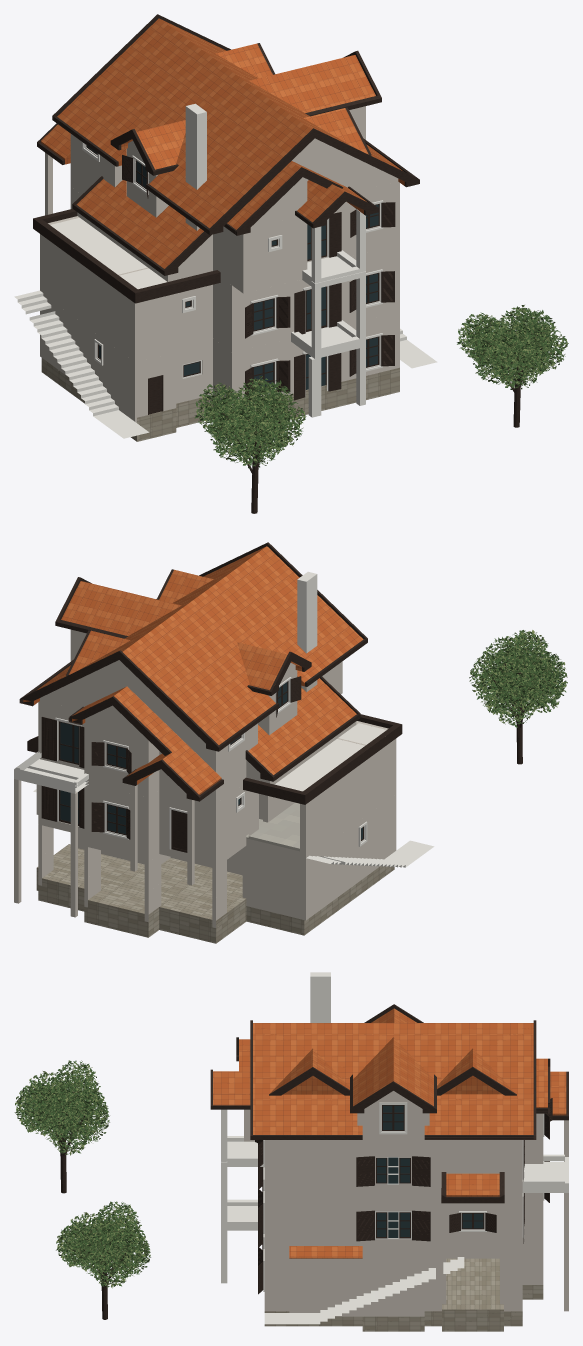
The model's file is context-detail-b29.glb.
3 views of the same model, one above another, from view 1: azimuth 30°, elevation 25°; view 2: azimuth 150°, elevation 25°; view 3: azimuth 270°, elevation 25° (orthographic). The views are drawn at different scales.
Parts seen in each view (by area): view 1: B29 | ÇATII.003, B29 | KAT 1$DUVAR, B29 | KAT 2$DUVAR, B29 | KAT 0$DUVAR, B29 | ek dalgalar, Individual folded leaves.016, B29 | ÇATI ALIN.002, Individual folded leaves.015, B29 | ÇATII.002, B29 | KAT 3$DUVAR, B29 foundation below BK, B29 | ÇATI ALIN.001 (+14 smaller); view 2: B29 | ÇATII.003, B29 | KAT 1$DUVAR, B29 | KAT 0$DUVAR, B29 foundation below BK, B29 | KAT 2$DUVAR, Individual folded leaves.016, B29 | ÇATII.002, B29 | ÇATI ALIN.002, B29 | KAT 3$DUVAR, B29 | ÇATI ALIN.001, B29 | ÇATI ALIN, B29 | KAT 1$TAVAN (+13 smaller); view 3: B29 | ÇATII.003, B29 | KAT 1$DUVAR, B29 | KAT 0$DUVAR, B29 | KAT 2$DUVAR, B29 foundation below BK, Individual folded leaves.016, Individual folded leaves.015, B29 | ÇATI ALIN.002, B29 | ek dalgalar, B29 | ek dalgalar.001, B29 | PENCERE_KAPI$SHUTTER.001, B29 | KAT 3$DUVAR (+12 smaller).
Part boxes in pixels (bbox=[...]): B29 | ÇATII.003: bbox=[57, 18, 402, 229]; B29 | KAT 1$DUVAR: bbox=[40, 152, 399, 362]; B29 | KAT 2$DUVAR: bbox=[70, 134, 399, 293]; B29 | KAT 0$DUVAR: bbox=[40, 295, 399, 422]; B29 | ek dalgalar: bbox=[14, 274, 437, 438]; Individual folded leaves.016: bbox=[194, 376, 306, 468]; B29 | ÇATI ALIN.002: bbox=[52, 14, 419, 235]; Individual folded leaves.015: bbox=[457, 305, 568, 389]; B29 | ÇATII.002: bbox=[41, 124, 404, 268]; B29 | KAT 3$DUVAR: bbox=[126, 106, 398, 227]; B29 foundation below BK: bbox=[41, 358, 399, 441]; B29 | ÇATI ALIN.001: bbox=[37, 116, 419, 275]; B29 | ÇATII.003: bbox=[23, 546, 363, 751]; B29 | KAT 1$DUVAR: bbox=[36, 721, 396, 885]; B29 | KAT 0$DUVAR: bbox=[14, 779, 396, 927]; B29 foundation below BK: bbox=[36, 844, 394, 943]; B29 | KAT 2$DUVAR: bbox=[38, 658, 356, 803]; Individual folded leaves.016: bbox=[469, 630, 567, 727]; B29 | ÇATII.002: bbox=[34, 676, 356, 794]; B29 | ÇATI ALIN.002: bbox=[20, 542, 367, 753]; B29 | KAT 3$DUVAR: bbox=[40, 629, 297, 739]; B29 | ÇATI ALIN.001: bbox=[19, 599, 367, 801]; B29 | ÇATI ALIN: bbox=[27, 714, 402, 804]; B29 | KAT 1$TAVAN: bbox=[275, 723, 386, 791]; B29 | ÇATII.003: bbox=[213, 1008, 547, 1134]; B29 | KAT 1$DUVAR: bbox=[264, 1120, 568, 1258]; B29 | KAT 0$DUVAR: bbox=[264, 1193, 568, 1316]; B29 | KAT 2$DUVAR: bbox=[244, 1109, 543, 1200]; B29 foundation below BK: bbox=[264, 1258, 543, 1331]; Individual folded leaves.016: bbox=[14, 1060, 109, 1155]; Individual folded leaves.015: bbox=[56, 1201, 150, 1288]; B29 | ÇATI ALIN.002: bbox=[210, 1004, 550, 1135]; B29 | ek dalgalar: bbox=[221, 1165, 464, 1324]; B29 | ek dalgalar.001: bbox=[221, 1138, 568, 1277]; B29 | PENCERE_KAPI$SHUTTER.001: bbox=[258, 1161, 549, 1243]; B29 | KAT 3$DUVAR: bbox=[357, 1091, 429, 1142].
Bounding box in the file's own units: 18.95 × 14.71 × 26.89.
12 materials, 12 textured.
